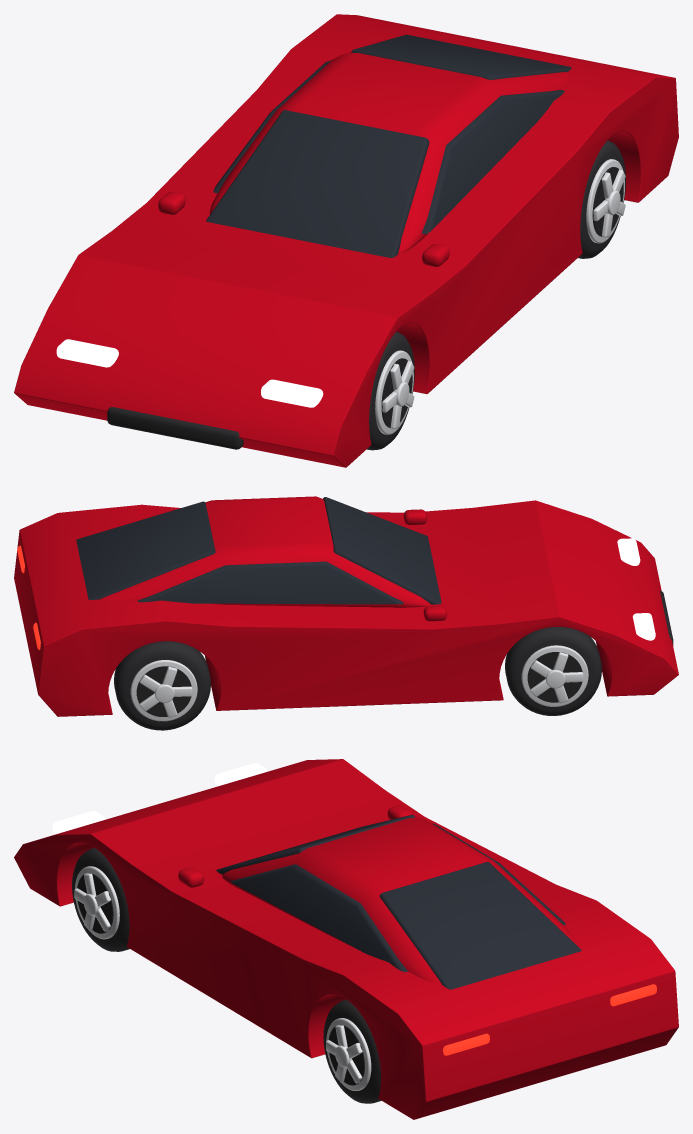
The model's file is reward-sports-car.glb.
3 renders of one model, top to bottom at view 1: azimuth 30°, elevation 25°; view 2: azimuth 150°, elevation 25°; view 3: azimuth 270°, elevation 25°, orthographic. The views are drawn at different scales.
Parts seen in each view (by area): view 1: body, screen, cabin, sidewin, rear, grille, tyre.001, tyre.003, headl, headl.001, rim.002, rim.004; view 2: body, cabin, rear, sidewin, screen, tyre, tyre.002, hubdark, hubdark.002, rim.001, rim.003, headl.001 (+1 smaller); view 3: body, rear, cabin, sidewin, tyre.001, tyre.003, screen, rim.002, rim.004, hubdark.001, hubdark.003, headl (+1 smaller).
Boxes of the visible parts, bbox=[...] form: body: bbox=[14, 14, 678, 467]; screen: bbox=[206, 110, 429, 257]; cabin: bbox=[209, 52, 568, 253]; sidewin: bbox=[213, 60, 564, 234]; rear: bbox=[351, 34, 571, 79]; grille: bbox=[107, 407, 243, 449]; tyre.001: bbox=[367, 331, 414, 450]; tyre.003: bbox=[578, 140, 625, 258]; headl: bbox=[56, 339, 118, 367]; headl.001: bbox=[261, 379, 323, 407]; rim.002: bbox=[375, 350, 413, 434]; rim.004: bbox=[586, 159, 624, 243]; body: bbox=[14, 500, 678, 716]; cabin: bbox=[100, 496, 430, 607]; rear: bbox=[76, 501, 215, 599]; sidewin: bbox=[137, 561, 403, 604]; screen: bbox=[323, 497, 441, 604]; tyre: bbox=[505, 627, 601, 715]; tyre.002: bbox=[114, 641, 210, 730]; hubdark: bbox=[527, 652, 582, 702]; hubdark.002: bbox=[136, 666, 191, 716]; rim.001: bbox=[521, 645, 588, 706]; rim.003: bbox=[130, 660, 197, 721]; headl.001: bbox=[617, 538, 640, 565]; body: bbox=[14, 759, 678, 1119]; rear: bbox=[379, 862, 581, 989]; cabin: bbox=[222, 817, 575, 984]; sidewin: bbox=[230, 823, 565, 972]; tyre.001: bbox=[72, 847, 129, 951]; tyre.003: bbox=[323, 999, 381, 1103]; screen: bbox=[216, 815, 414, 874]; rim.002: bbox=[75, 866, 119, 939]; rim.004: bbox=[326, 1018, 371, 1090]; hubdark.001: bbox=[77, 873, 113, 933]; hubdark.003: bbox=[329, 1025, 364, 1085]; headl: bbox=[214, 763, 267, 785].
Size of the model in its own units: 5.44 by 1.32 by 4.72.
